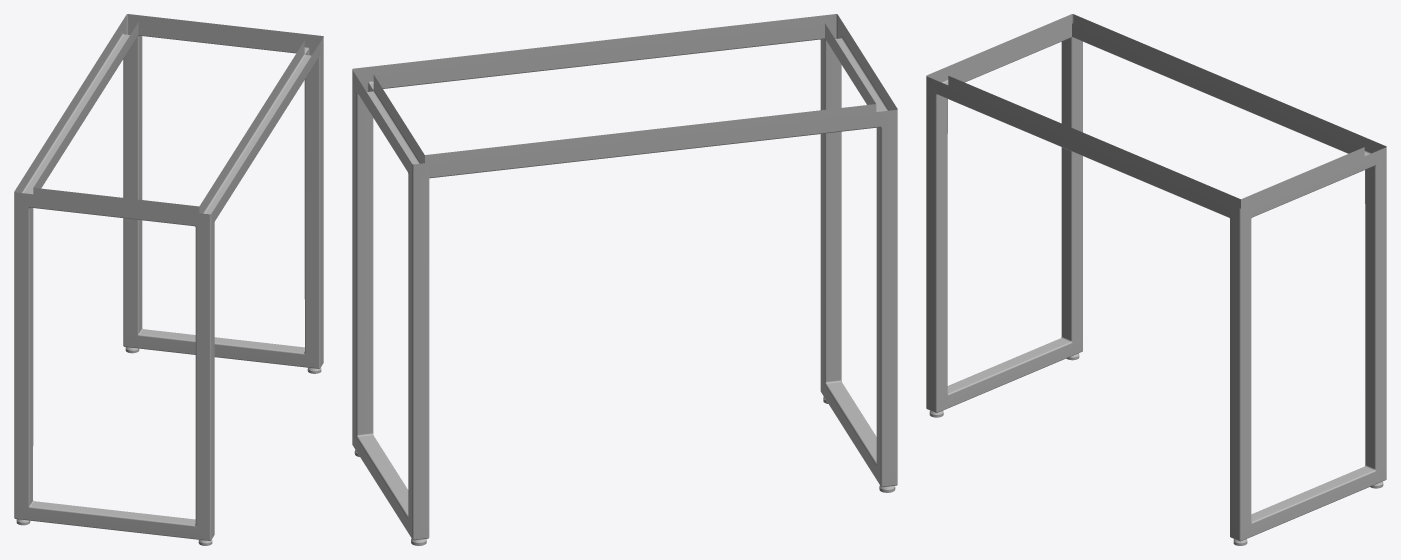
File: diningtable_0102_leg_rectagle.glb
3 views of the same model, side by side, from view 1: azimuth 30°, elevation 25°; view 2: azimuth 150°, elevation 25°; view 3: azimuth 270°, elevation 25° (orthographic). The views are drawn at different scales.
Parts seen in each view (by area): view 1: diningtable_0102_leg_rectagle; view 2: diningtable_0102_leg_rectagle; view 3: diningtable_0102_leg_rectagle.
Part boxes in pixels (left/top/right/bottom): diningtable_0102_leg_rectagle: left=14, top=14, right=323, bottom=545; diningtable_0102_leg_rectagle: left=352, top=14, right=897, bottom=545; diningtable_0102_leg_rectagle: left=926, top=14, right=1386, bottom=545.
Size of the model in its own units: 1.17 by 0.9468 by 1.17.
Materials: 1 (1 with a texture image).
